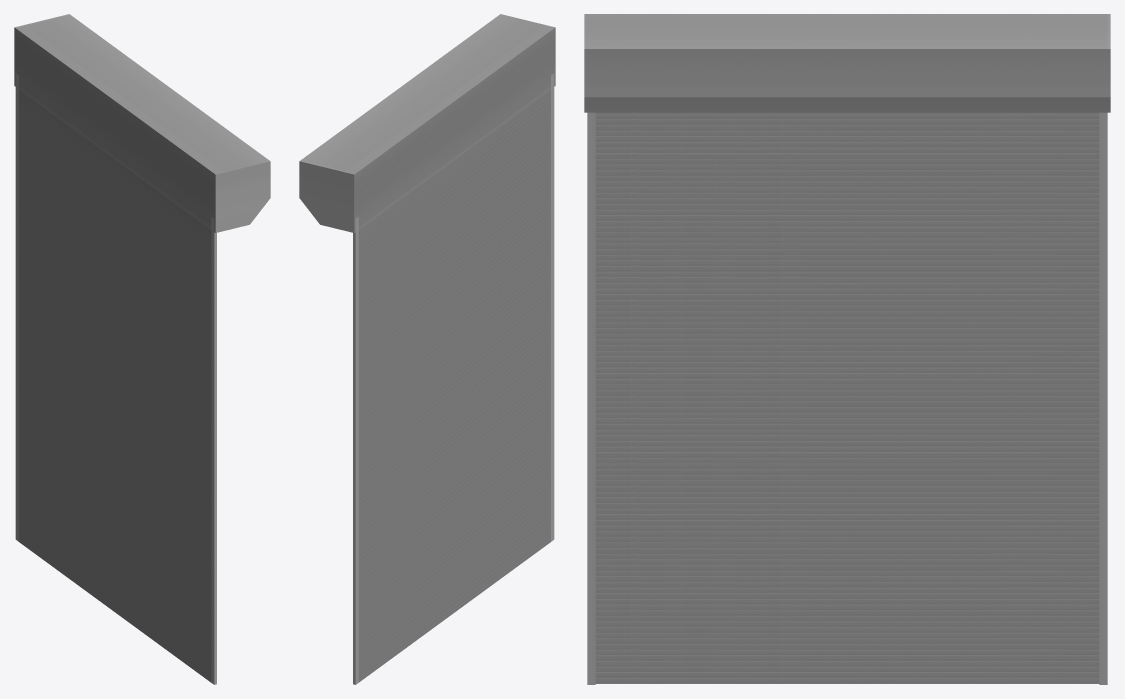
Rendered from Garage Door.fbx.
3 views of the same model, side by side, from view 1: azimuth 30°, elevation 25°; view 2: azimuth 150°, elevation 25°; view 3: azimuth 270°, elevation 25° (orthographic). The views are drawn at different scales.
Parts seen in each view (by area): view 1: Door Segment.low, Garage Box.Low.Low, Side Poles.Low; view 2: Door Segment.low, Garage Box.Low.Low, Side Poles.Low; view 3: Door Segment.low, Garage Box.Low.Low, Side Poles.Low.
Part boxes in pixels (x1=…): Door Segment.low: x1=19, y1=89, x2=211, y2=682; Garage Box.Low.Low: x1=14, y1=14, x2=270, y2=232; Side Poles.Low: x1=15, y1=73, x2=216, y2=684; Door Segment.low: x1=358, y1=89, x2=550, y2=682; Garage Box.Low.Low: x1=299, y1=14, x2=555, y2=232; Side Poles.Low: x1=353, y1=73, x2=554, y2=684; Door Segment.low: x1=595, y1=112, x2=1099, y2=683; Garage Box.Low.Low: x1=584, y1=14, x2=1110, y2=112; Side Poles.Low: x1=587, y1=112, x2=1107, y2=684.
Size of the model in its own units: 200 by 1780 by 1269.
3 materials, 3 textured.
